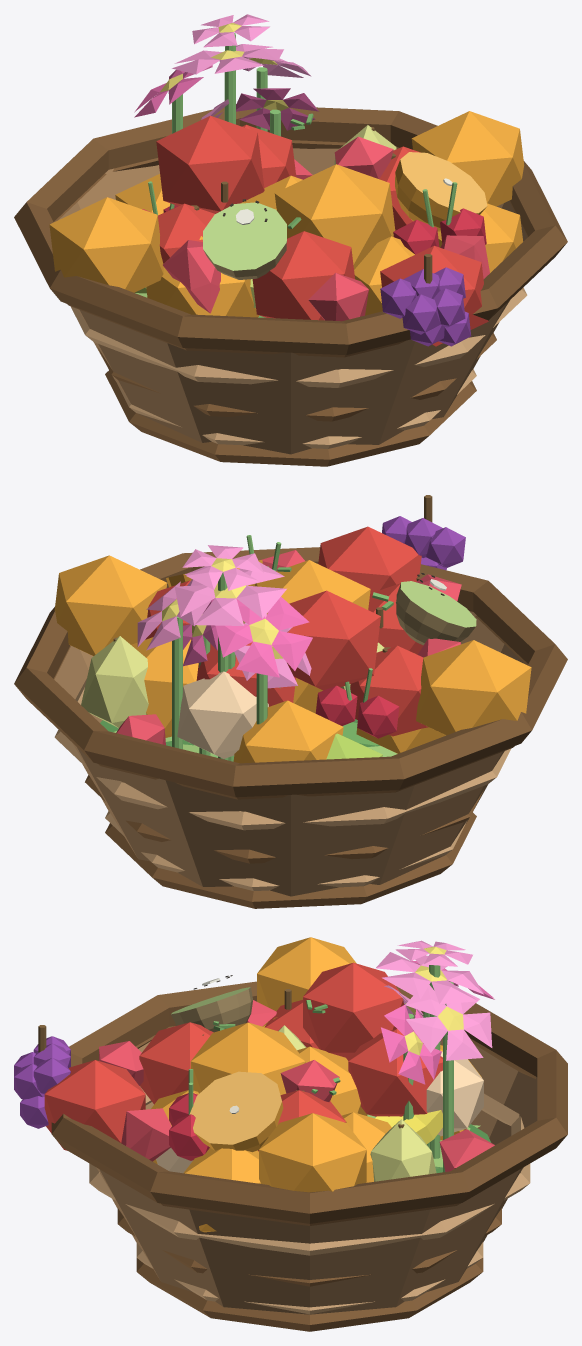
The model's file is Fruit_Basket_Hat.glb.
3 renders of one model, top to bottom at view 1: azimuth 30°, elevation 25°; view 2: azimuth 150°, elevation 25°; view 3: azimuth 270°, elevation 25°, orthographic. The views are drawn at different scales.
Visible parts, largest first — view 1: BasketBody, Rim, OrangeOver_L, AppleTop_0, OrangeTop_0, OrangeOver_R, BaseRing, Apple_0, KiwiHalf_Body, OrangeHalf_Body, WickerBand_2, Orange_1 (+29 smaller); view 2: BasketBody, Rim, OrangeOver_L, OrangeOver_R, AppleTop_0, BaseRing, Peach_0, Orange_3, WickerBand_2, AppleOver_F, FlowerB, Pear_1 (+25 smaller); view 3: BasketBody, Rim, OrangeOver_R, AppleTop_0, OrangeHalf_Body, AppleOver_F, BaseRing, WickerBand_2, OrangeTop_0, Apple_3, OrangeOver_L, FlowerC (+27 smaller).
Part boxes in pixels (bbox=[...]): BasketBody: bbox=[59, 148, 527, 454]; Rim: bbox=[14, 104, 567, 355]; OrangeOver_L: bbox=[49, 197, 163, 292]; AppleTop_0: bbox=[156, 115, 264, 213]; OrangeTop_0: bbox=[274, 164, 395, 269]; OrangeOver_R: bbox=[411, 111, 524, 206]; BaseRing: bbox=[105, 370, 476, 466]; Apple_0: bbox=[252, 231, 354, 320]; KiwiHalf_Body: bbox=[203, 202, 286, 279]; OrangeHalf_Body: bbox=[395, 152, 487, 231]; WickerBand_2: bbox=[70, 287, 527, 387]; Orange_1: bbox=[146, 236, 258, 317]; BasketBody: bbox=[54, 611, 525, 896]; Rim: bbox=[14, 547, 567, 797]; OrangeOver_L: bbox=[416, 640, 531, 735]; OrangeOver_R: bbox=[54, 555, 167, 656]; AppleTop_0: bbox=[287, 590, 380, 690]; BaseRing: bbox=[105, 812, 476, 908]; Peach_0: bbox=[177, 671, 268, 758]; Orange_3: bbox=[233, 700, 343, 763]; WickerBand_2: bbox=[54, 678, 510, 830]; AppleOver_F: bbox=[318, 526, 421, 593]; FlowerB: bbox=[216, 597, 312, 677]; Pear_1: bbox=[81, 636, 148, 728]; BasketBody: bbox=[96, 1038, 537, 1314]; Rim: bbox=[51, 981, 567, 1223]; OrangeOver_R: bbox=[259, 1113, 366, 1192]; AppleTop_0: bbox=[303, 962, 403, 1060]; OrangeHalf_Body: bbox=[189, 1071, 283, 1152]; AppleOver_F: bbox=[44, 1060, 145, 1150]; BaseRing: bbox=[136, 1258, 483, 1331]; WickerBand_2: bbox=[89, 1089, 530, 1255]; OrangeTop_0: bbox=[190, 1022, 305, 1094]; Apple_3: bbox=[348, 1029, 442, 1116]; OrangeOver_L: bbox=[257, 937, 356, 1011]; FlowerC: bbox=[405, 985, 492, 1060].
Size of the model in its own units: 2.74 by 1.77 by 2.8.
